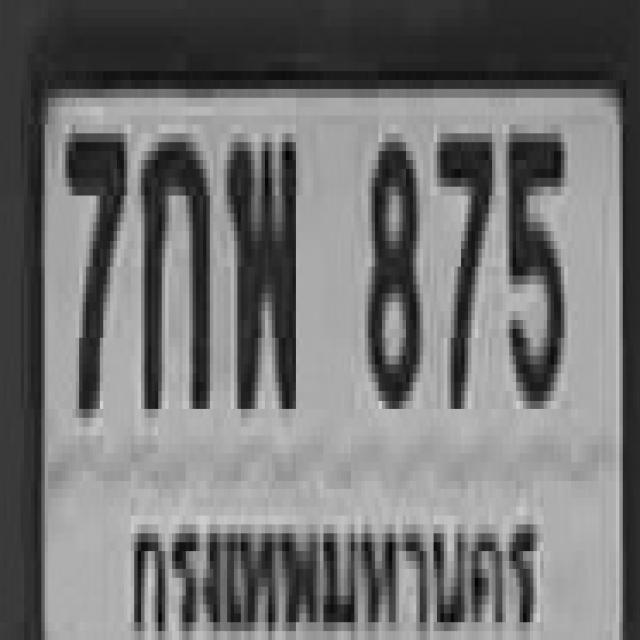10GorGai: (138, 129, 206, 404)
39PhorPan: (224, 124, 292, 400)
5: (506, 124, 561, 400)
7: (62, 124, 124, 409), (434, 124, 488, 400)
8: (365, 133, 416, 400)
Bangkok: (126, 502, 554, 640)
